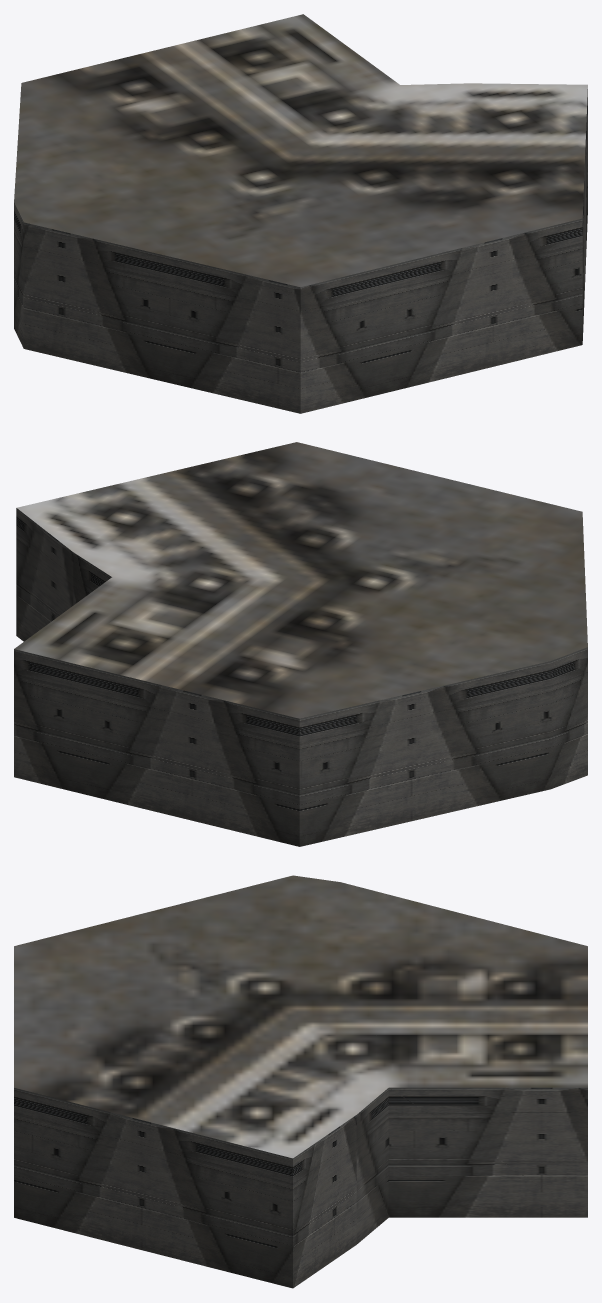
Rendered from fortress_hard_67.glb.
The picture shows the model from 3 angles, top to bottom: view 1: azimuth 30°, elevation 25°; view 2: azimuth 150°, elevation 25°; view 3: azimuth 270°, elevation 25°; orthographic projection. The views are drawn at different scales.
Parts seen in each view (by area): view 1: buildings/saxarba/fortress_hard/fortress_hard_67; view 2: buildings/saxarba/fortress_hard/fortress_hard_67; view 3: buildings/saxarba/fortress_hard/fortress_hard_67.
Part boxes in pixels (bbox=[...]): buildings/saxarba/fortress_hard/fortress_hard_67: bbox=[14, 14, 587, 413]; buildings/saxarba/fortress_hard/fortress_hard_67: bbox=[14, 442, 587, 846]; buildings/saxarba/fortress_hard/fortress_hard_67: bbox=[14, 875, 587, 1288].
Size of the model in its own units: 84 by 18 by 72.
